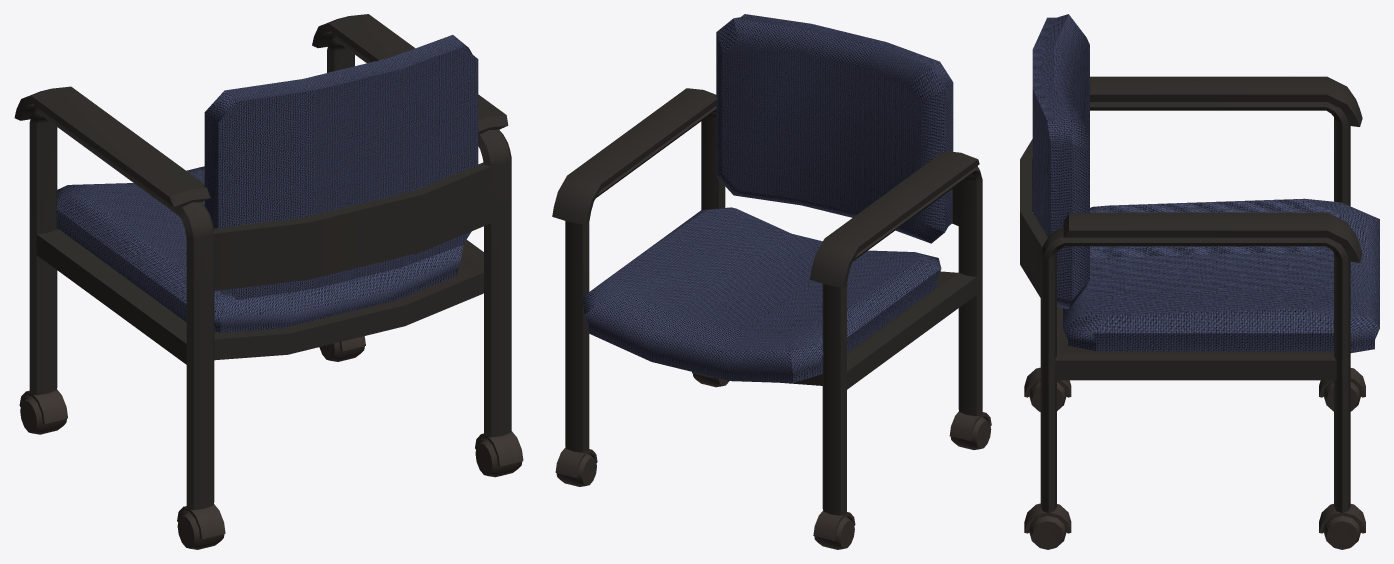
Rendered from GYM_Chair_2.fbx.
3 views of the same model, side by side, from view 1: azimuth 30°, elevation 25°; view 2: azimuth 150°, elevation 25°; view 3: azimuth 270°, elevation 25° (orthographic). The views are drawn at different scales.
Parts seen in each view (by area): view 1: GYM_Chair_2; view 2: GYM_Chair_2; view 3: GYM_Chair_2.
Boxes of the visible parts, x1,y1,x2,y2 form: GYM_Chair_2: (14, 14, 523, 549); GYM_Chair_2: (552, 14, 991, 549); GYM_Chair_2: (1020, 14, 1379, 549).
Size of the model in its own units: 1.04 by 1.3 by 1.03.
Materials: 3 (2 with a texture image).
